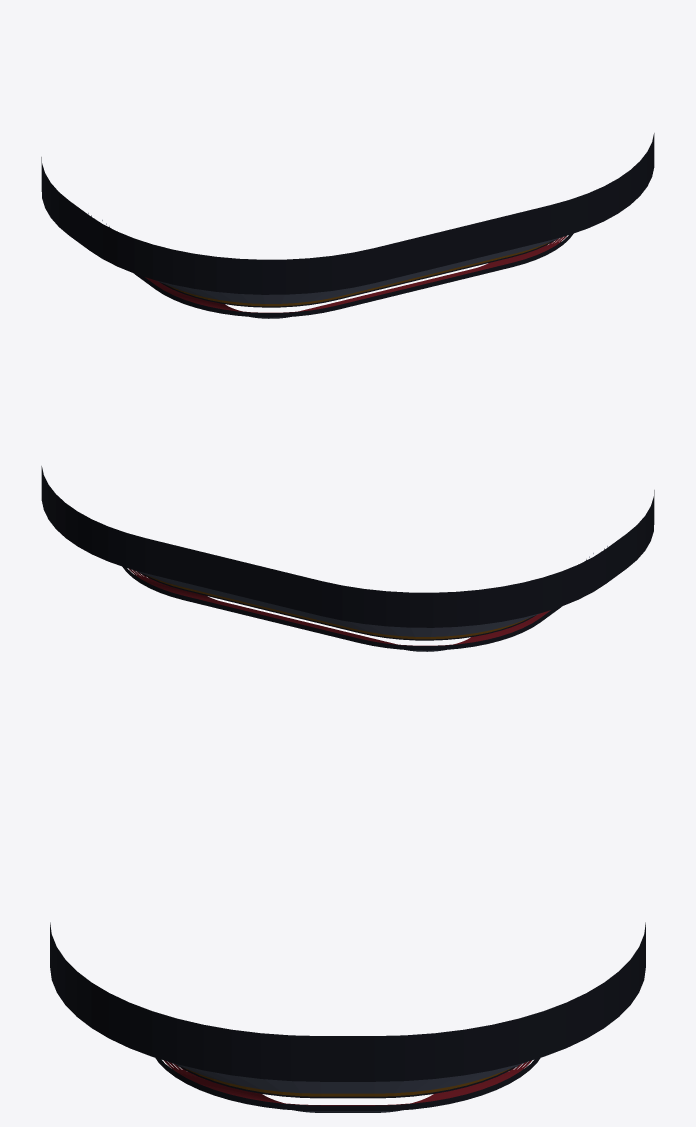
Rendered from bowl.gltf.
3 views of the same model, one above another, from view 1: azimuth 30°, elevation 25°; view 2: azimuth 150°, elevation 25°; view 3: azimuth 270°, elevation 25° (orthographic). The views are drawn at different scales.
Bounding box in the file's own units: 146 × 30 × 111.
